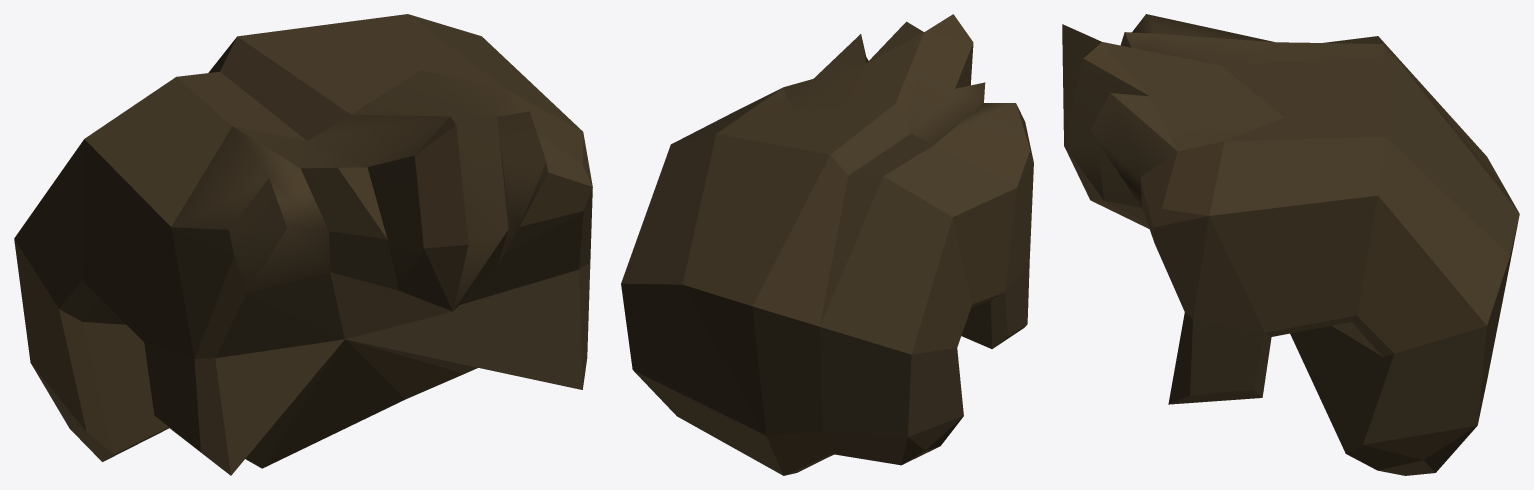
File: Chr_Hair_16_Static.fbx
The picture shows the model from 3 angles, left to right: view 1: azimuth 30°, elevation 25°; view 2: azimuth 150°, elevation 25°; view 3: azimuth 270°, elevation 25°; orthographic projection. The views are drawn at different scales.
Parts seen in each view (by area): view 1: Chr_Hair_16_Static; view 2: Chr_Hair_16_Static; view 3: Chr_Hair_16_Static.
Boxes of the visible parts, x1=… form: Chr_Hair_16_Static: x1=14, y1=14, x2=592, y2=475; Chr_Hair_16_Static: x1=621, y1=14, x2=1033, y2=475; Chr_Hair_16_Static: x1=1062, y1=14, x2=1519, y2=475.
Bounding box in the file's own units: 0.2475 × 0.2746 × 0.2697.
